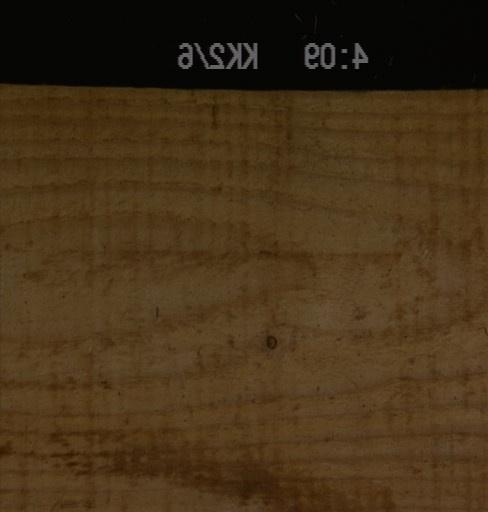dry_knot: (264, 334, 277, 349)
